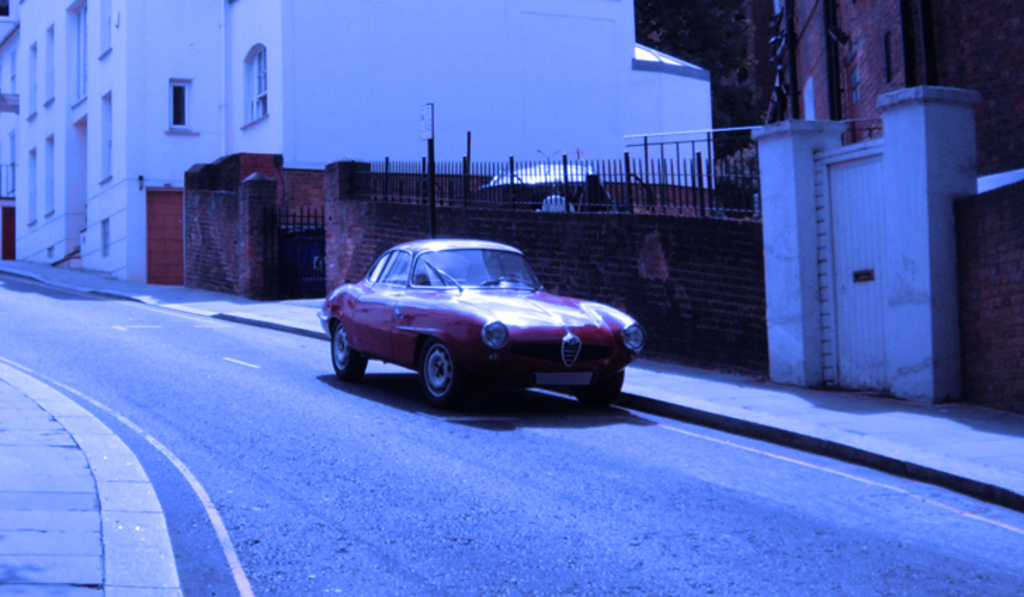Car: (313, 230, 639, 412), (476, 157, 594, 192)
